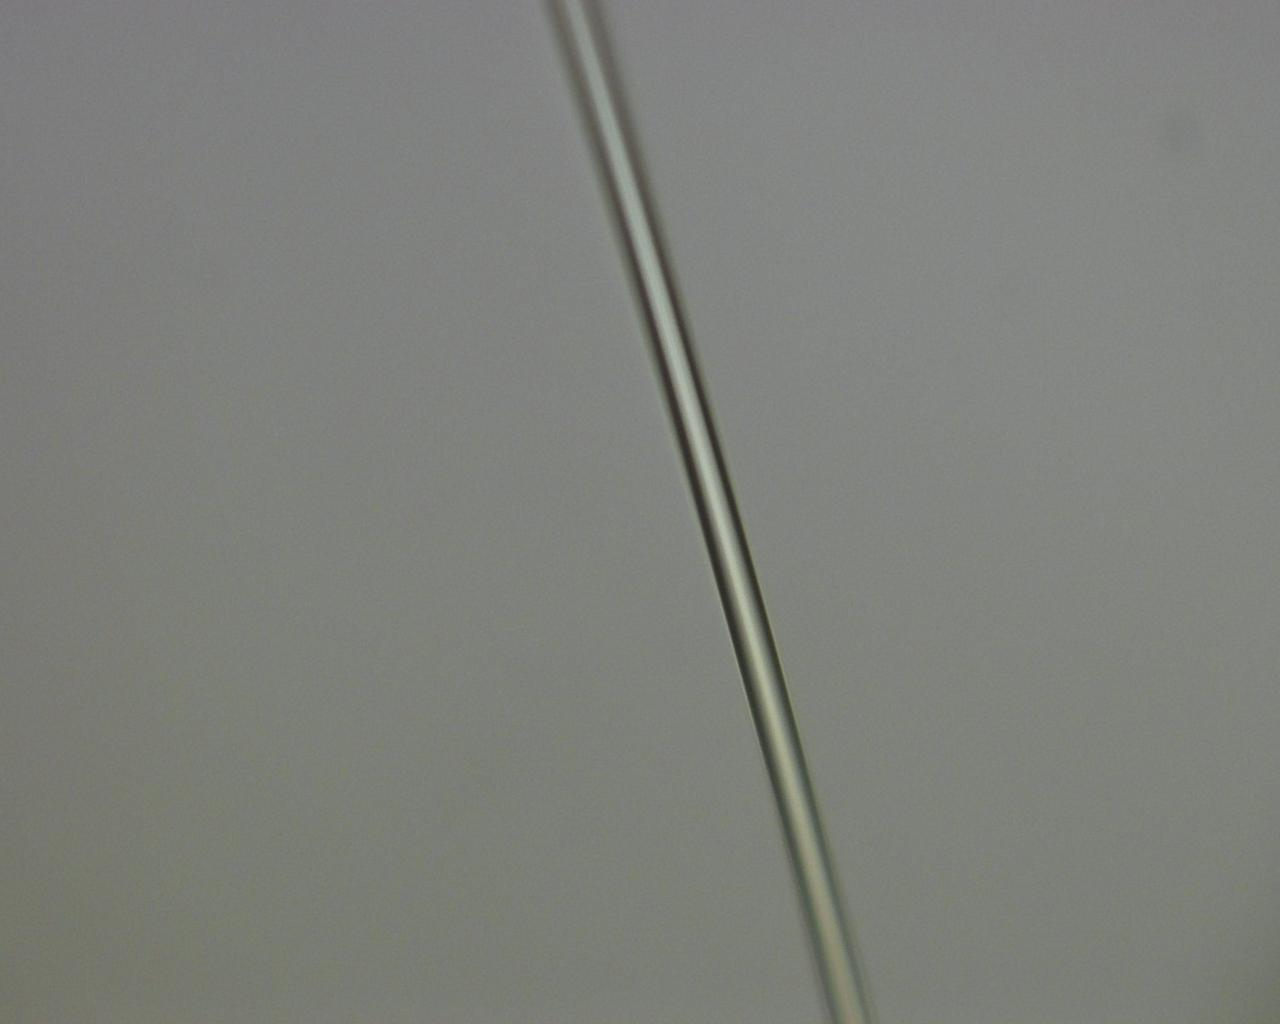fiber: (0, 686, 793, 787), (0, 164, 793, 250), (793, 917, 1280, 1024), (1002, 0, 1031, 686)
